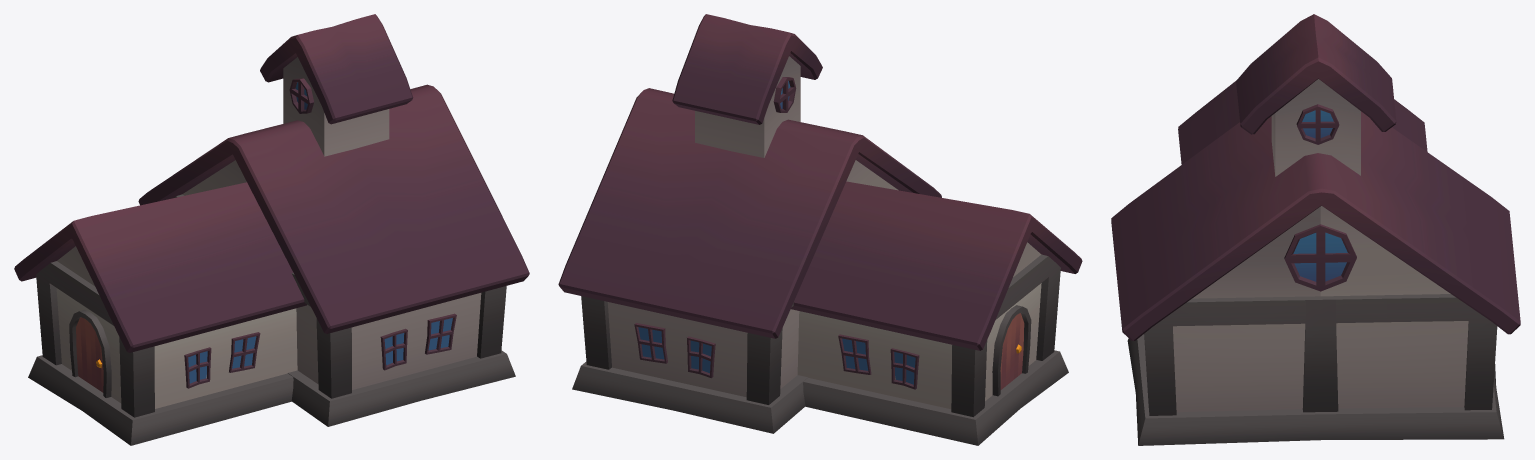
Rendered from towncenter.gltf.
The picture shows the model from 3 angles, left to right: view 1: azimuth 30°, elevation 25°; view 2: azimuth 150°, elevation 25°; view 3: azimuth 270°, elevation 25°; orthographic projection. The views are drawn at different scales.
Parts seen in each view (by area): view 1: towncenter; view 2: towncenter; view 3: towncenter.
Boxes of the visible parts, bbox=[...] form: towncenter: bbox=[14, 14, 529, 445]; towncenter: bbox=[558, 14, 1082, 445]; towncenter: bbox=[1111, 14, 1520, 445].
Size of the model in its own units: 2.51 by 2 by 2.09.
Materials: 1 (1 with a texture image).
